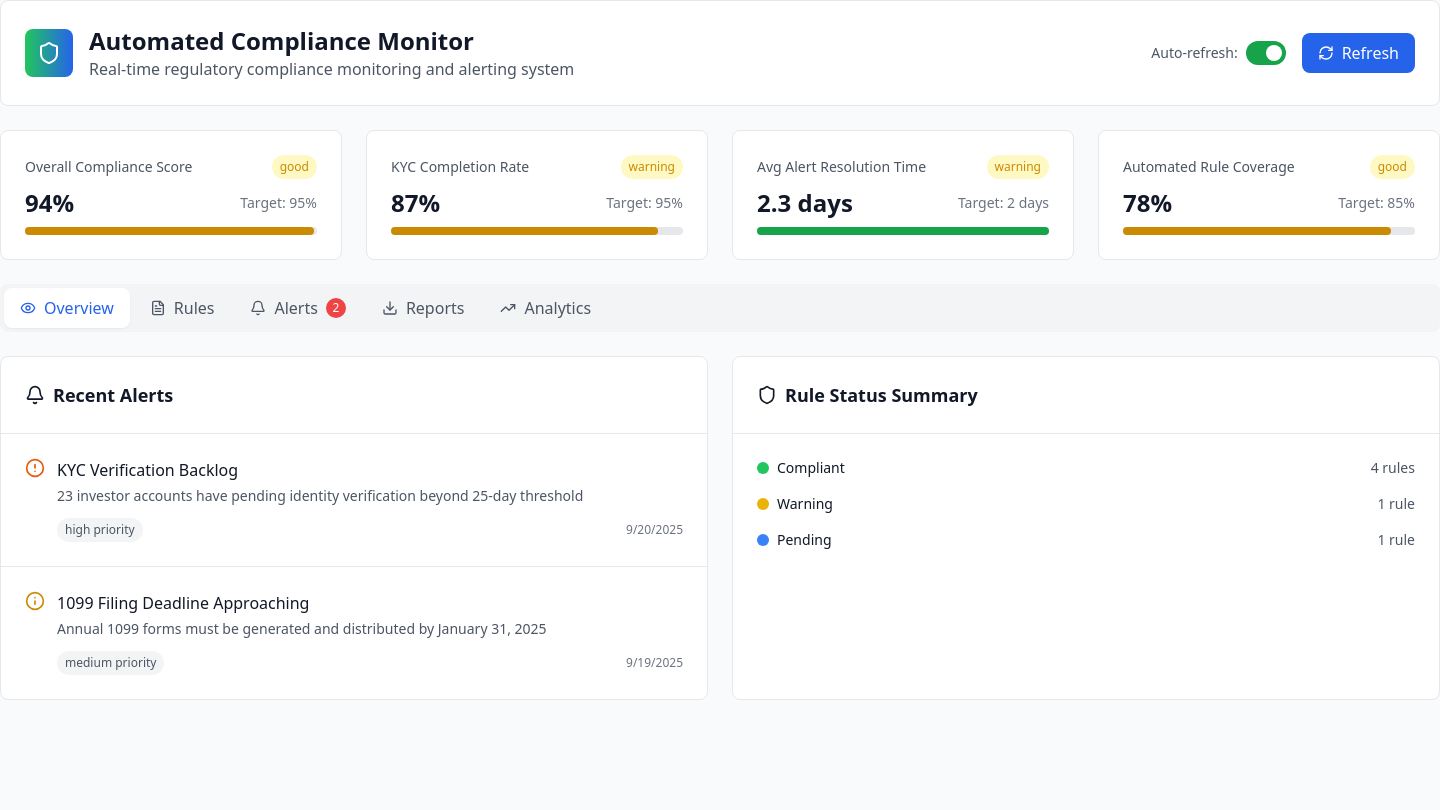
Scenario: AutomatedComplianceMonitor › switches to reports tab
Click the button "Reports" at (423, 308), box [366,288,480,328]
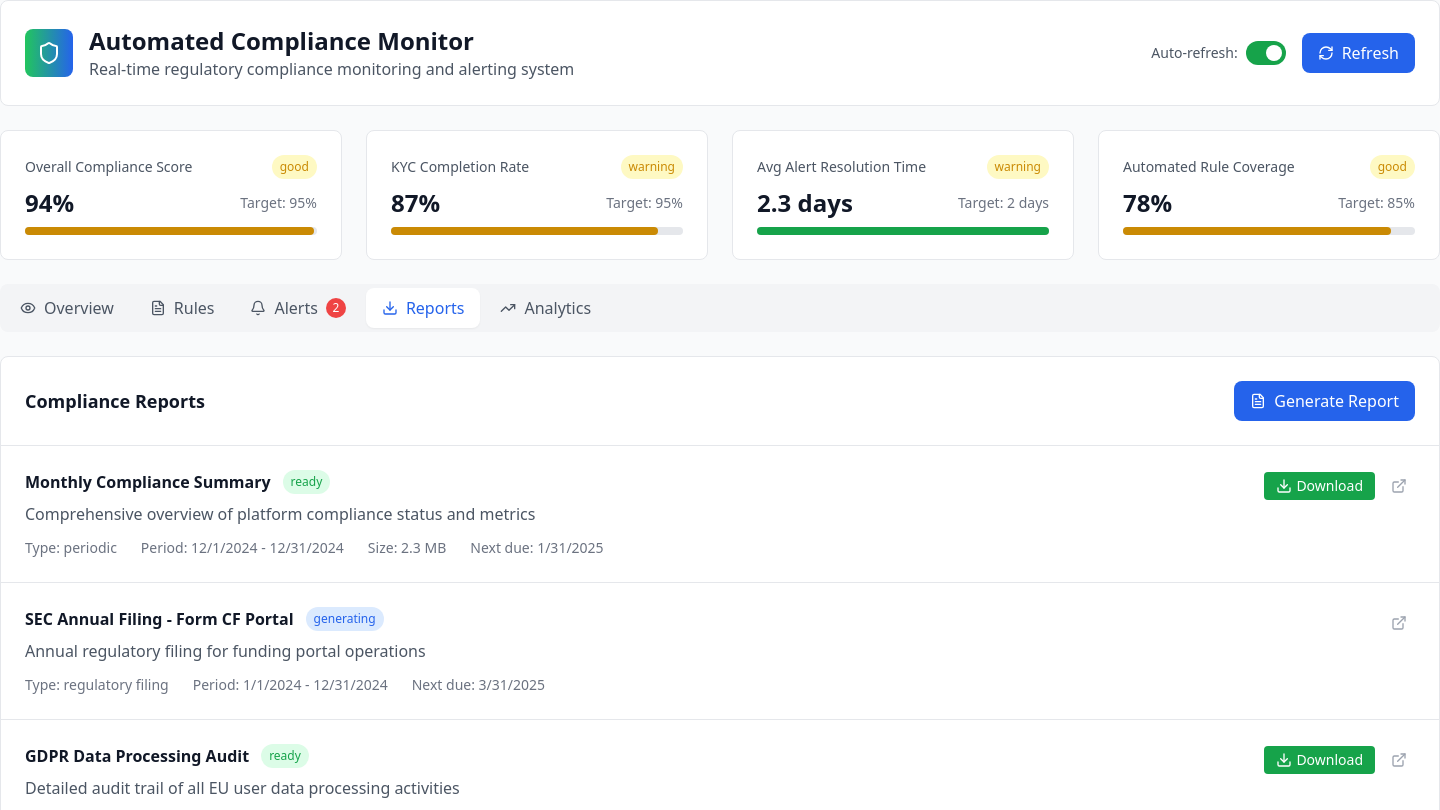
Now the heading "Compliance Reports" is shown, box [25,387,205,415]
